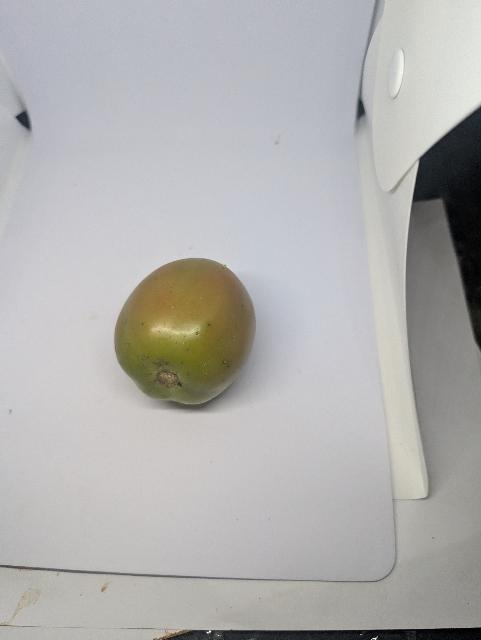breaker: (111, 249, 261, 418)
